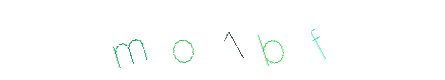1: (178, 0, 258, 80)
B: (182, 0, 262, 80)
F: (208, 0, 288, 80)
M: (139, 0, 219, 80)
O: (155, 0, 235, 80)
